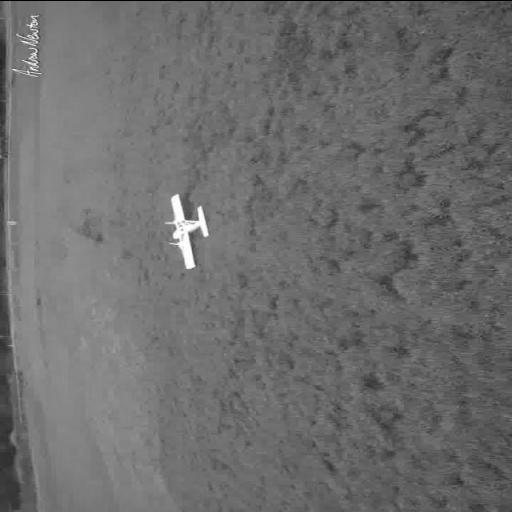uav: (159, 188, 217, 280)
